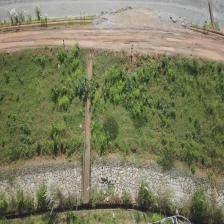rock_toe: (91, 158, 198, 203), (10, 163, 82, 200), (206, 186, 224, 206)
slope_drain: (81, 52, 93, 207)
